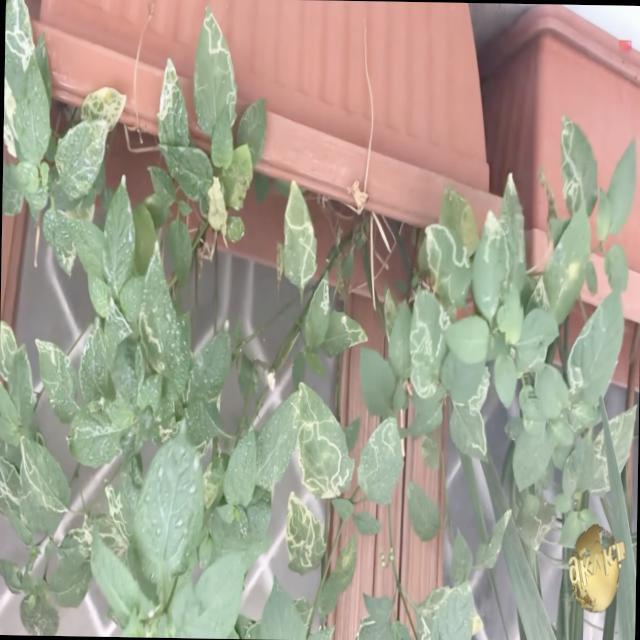Tomato target spot leaf: (294, 384, 358, 504), (564, 282, 624, 408), (189, 3, 240, 132), (137, 240, 178, 376), (408, 285, 452, 401), (65, 394, 132, 470), (588, 402, 639, 500), (254, 390, 300, 491), (471, 212, 512, 325), (55, 117, 108, 201), (18, 434, 72, 516), (356, 413, 402, 509), (558, 114, 600, 218), (32, 339, 80, 427), (280, 177, 318, 287), (423, 222, 472, 306), (283, 489, 328, 579), (498, 169, 528, 295), (78, 312, 118, 404), (58, 518, 128, 568), (3, 0, 36, 104), (155, 55, 192, 146), (446, 400, 491, 464), (6, 340, 35, 433), (233, 97, 268, 169), (321, 309, 368, 362), (414, 581, 456, 640), (79, 85, 127, 135), (302, 269, 330, 352), (518, 501, 557, 554), (352, 590, 393, 640), (102, 476, 134, 540), (0, 450, 22, 519), (463, 365, 491, 418), (0, 317, 17, 385), (381, 284, 398, 344)
